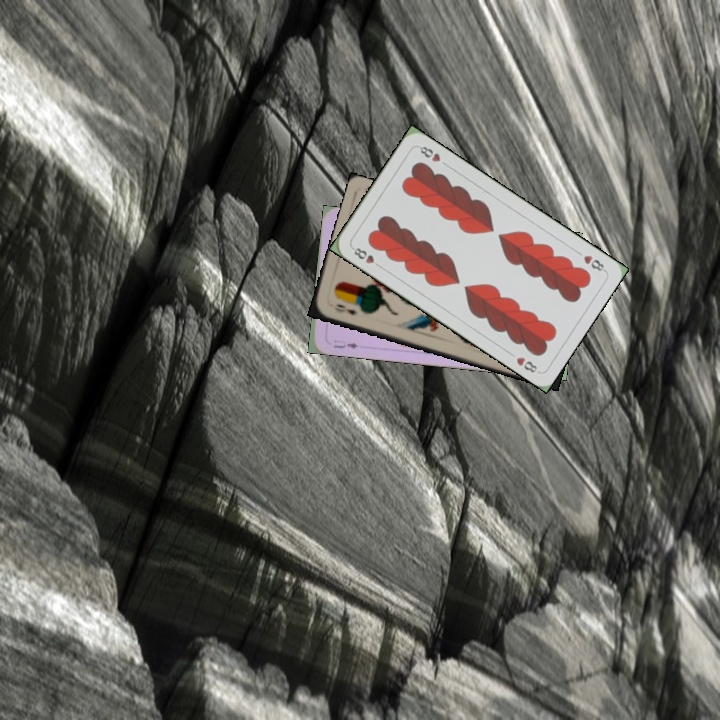EO: (330, 300, 359, 317)
EU: (330, 336, 361, 351)
H8: (348, 243, 384, 270), (579, 251, 608, 274)
